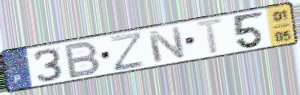3: (32, 47, 65, 84)
5: (231, 9, 265, 50)
B: (64, 39, 103, 80)
N: (145, 25, 188, 64)
T: (194, 16, 228, 56)
Z: (108, 30, 147, 73)
